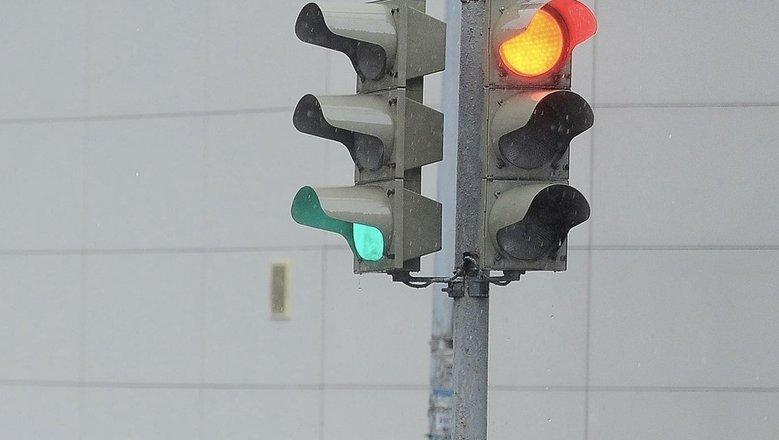traffic light: (291, 0, 444, 273), (481, 0, 596, 272)
